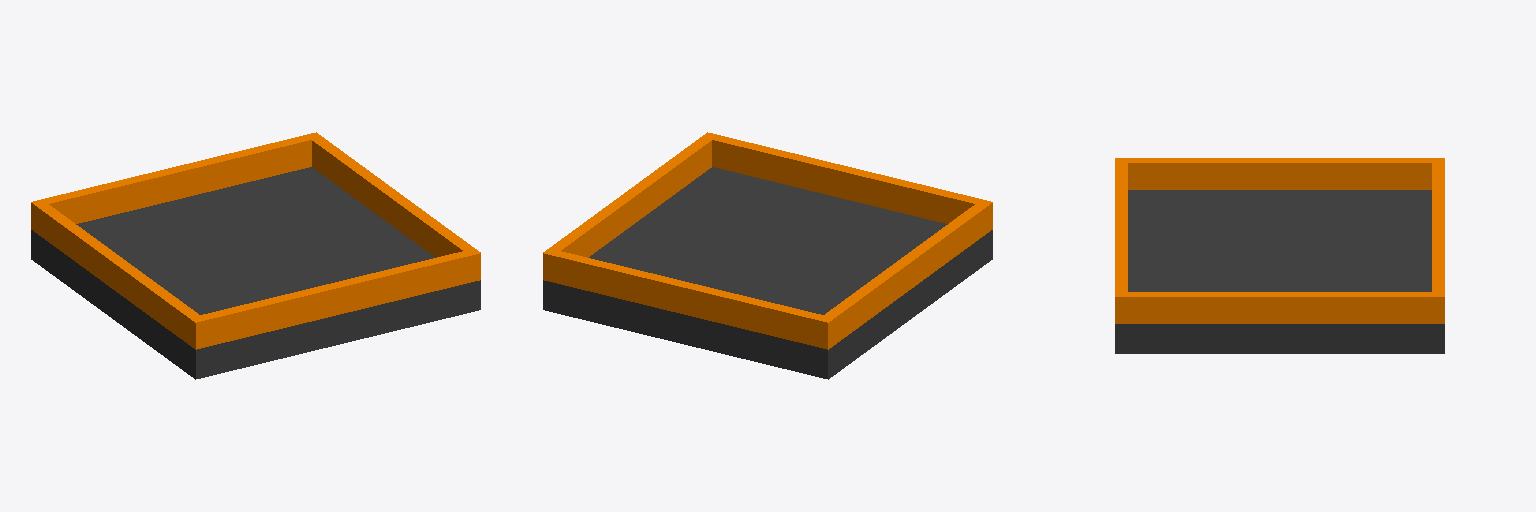
3 renders of one model, left to right at view 1: azimuth 30°, elevation 25°; view 2: azimuth 150°, elevation 25°; view 3: azimuth 270°, elevation 25°, orthographic.
Visible parts, largest first — view 1: object 1; view 2: object 1; view 3: object 1.
Part boxes in pixels (x1,y1,x2,y2): object 1: (31, 132, 480, 379); object 1: (543, 132, 992, 379); object 1: (1115, 158, 1444, 353).
Size of the model in its own units: 10 by 1.9 by 10.
Materials: 1 (1 with a texture image).